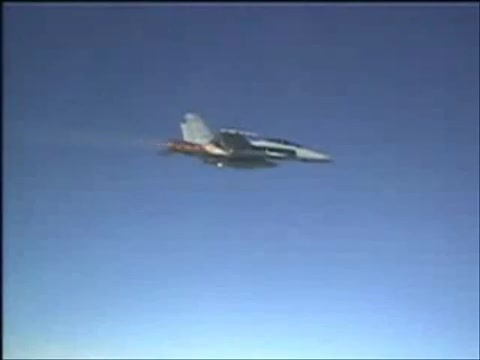aeroplane: (154, 112, 337, 172)
